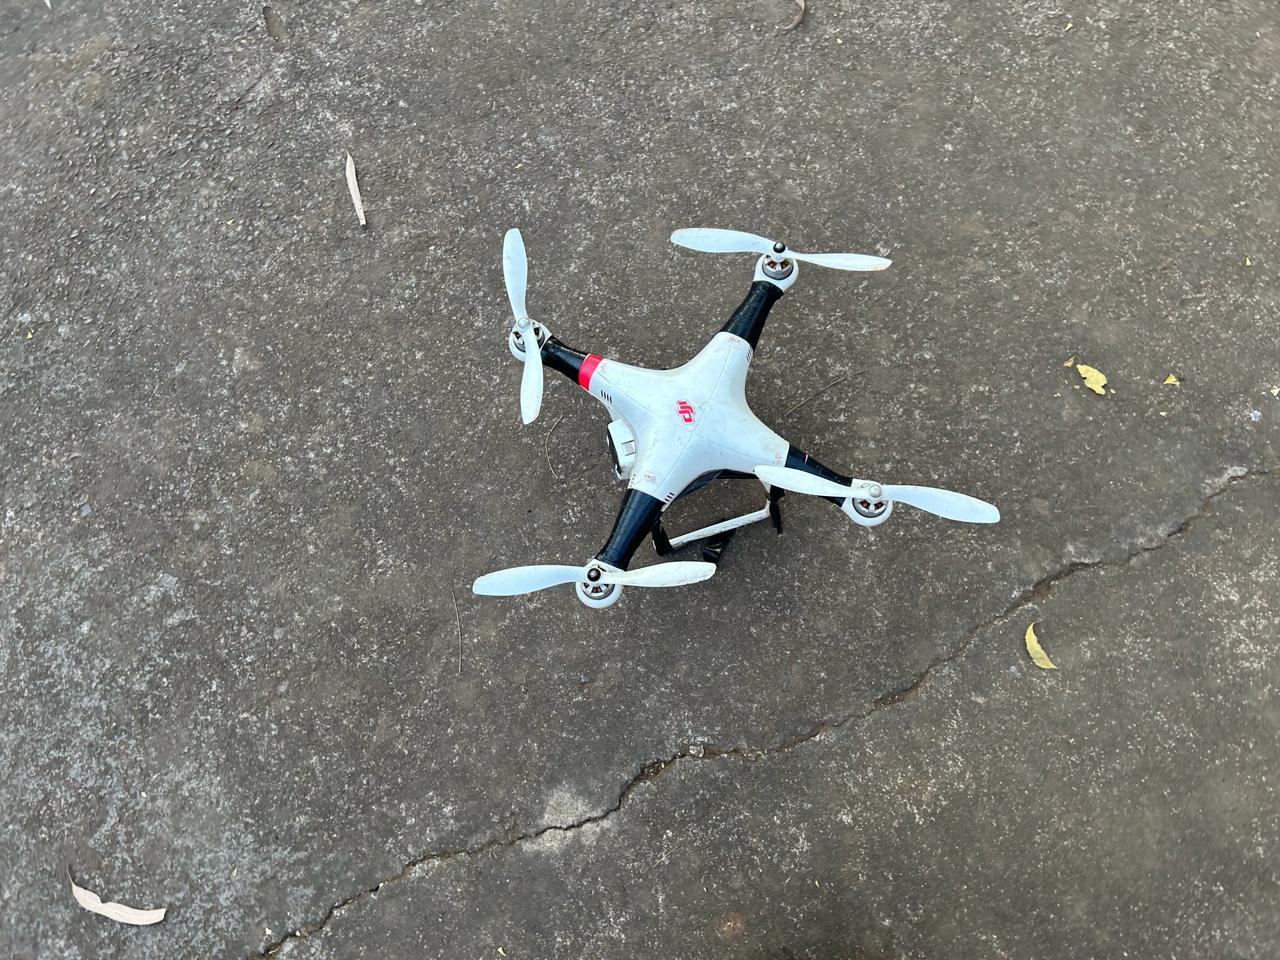drone: (494, 230, 904, 609)
